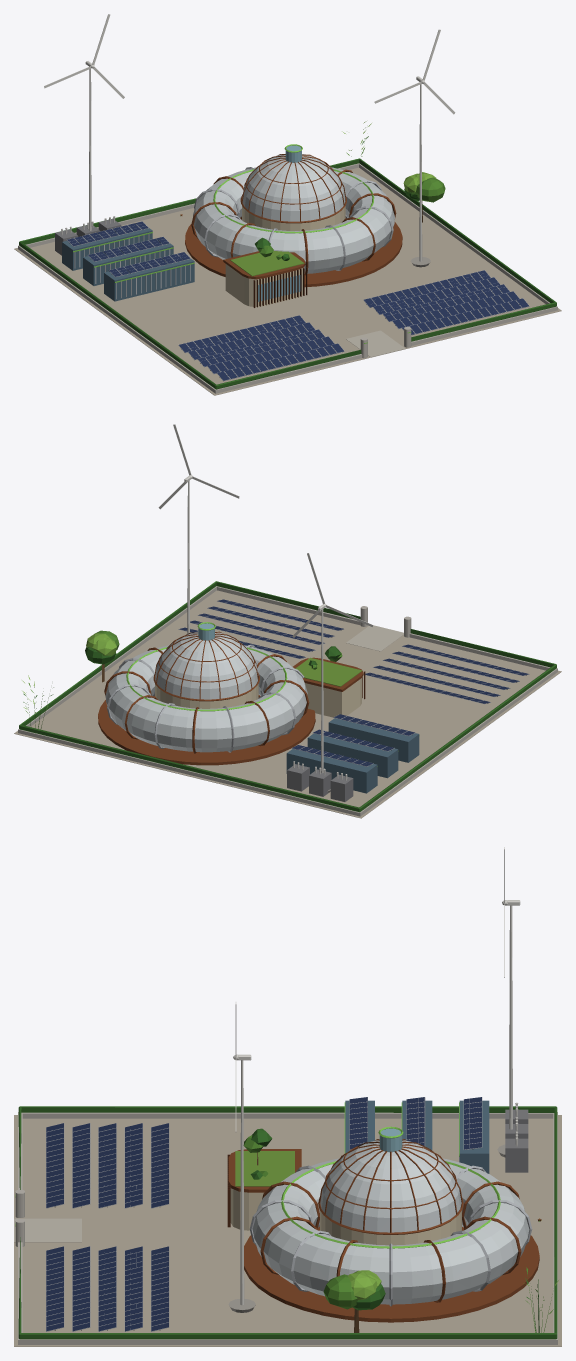
Rendered from power_plant.glb.
3 views of the same model, one above another, from view 1: azimuth 30°, elevation 25°; view 2: azimuth 150°, elevation 25°; view 3: azimuth 270°, elevation 25° (orthographic). The views are drawn at different scales.
Visible parts, largest first — view 1: body, windows; view 2: body, windows; view 3: body, windows.
Boxes of the visible parts, left/top/right/bottom form: body: left=14, top=14, right=561, bottom=395; windows: left=73, top=144, right=411, bottom=343; body: left=14, top=424, right=561, bottom=818; windows: left=126, top=622, right=419, bottom=766; body: left=14, top=847, right=561, bottom=1346; windows: left=15, top=1102, right=500, bottom=1248.
Size of the model in its own units: 48.24 by 30.77 by 47.9.
